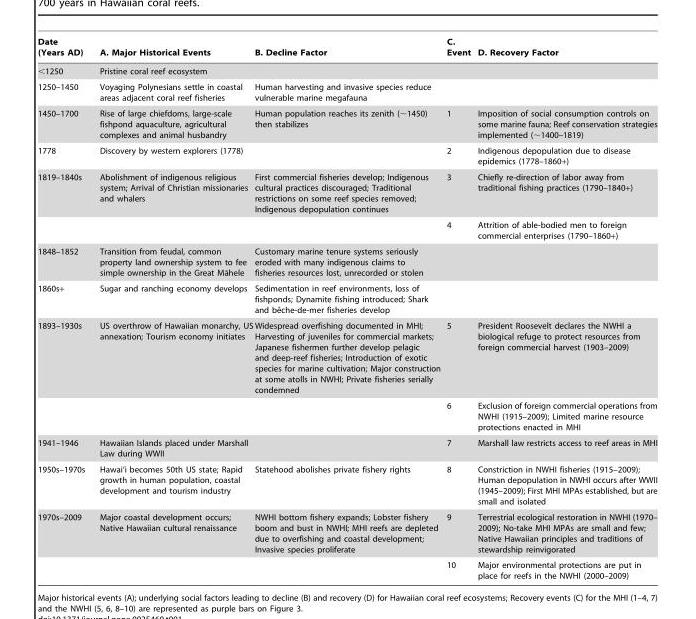table: (37, 37, 656, 579)
table column: (253, 37, 443, 579), (473, 37, 656, 579), (91, 37, 253, 579), (37, 37, 91, 579), (443, 37, 473, 579)
table column header: (37, 37, 656, 61)
table row: (37, 317, 656, 397), (37, 461, 656, 509), (37, 169, 656, 216), (37, 509, 656, 556), (37, 104, 656, 142), (37, 279, 656, 317), (37, 397, 656, 434), (37, 243, 656, 279), (37, 142, 656, 169), (37, 216, 656, 243), (37, 434, 656, 461), (37, 78, 656, 104), (37, 37, 656, 61), (37, 556, 656, 579), (37, 61, 656, 78)
table spanning cell: (37, 317, 91, 434), (37, 169, 91, 243), (37, 509, 91, 579)
